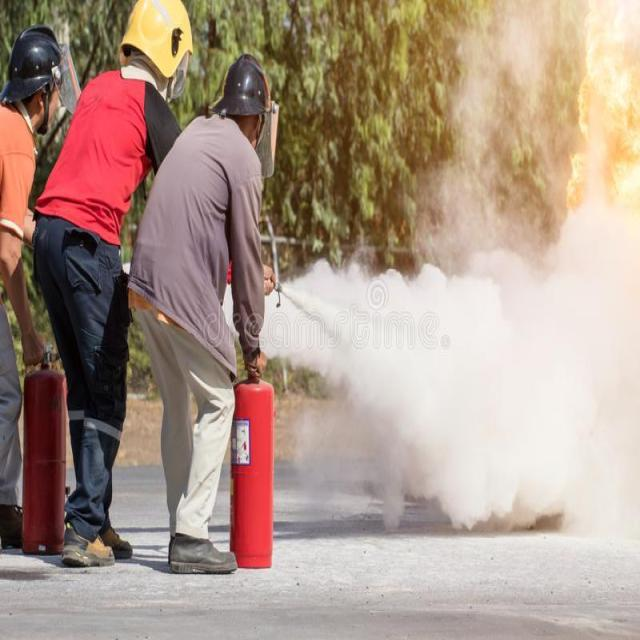fire_extinguisher: (225, 262, 287, 568), (16, 331, 67, 558)
